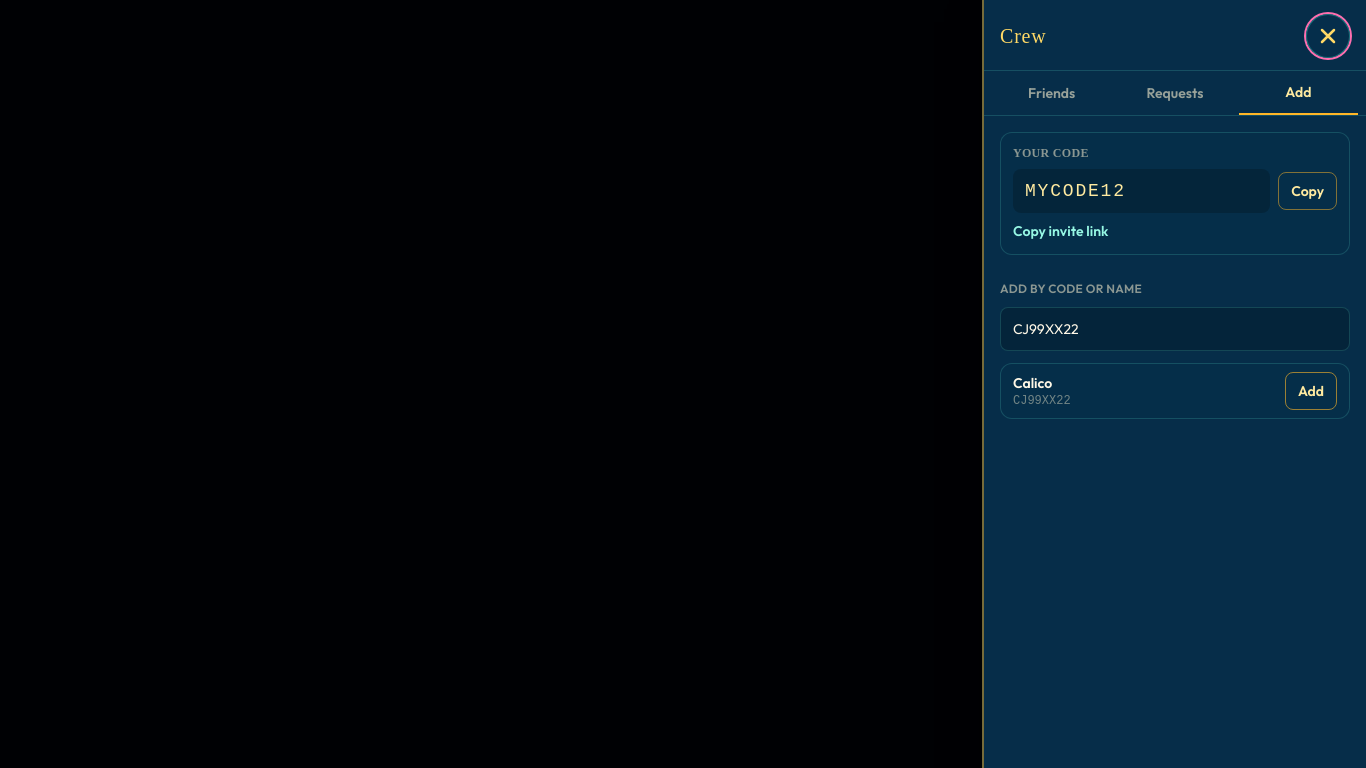
Test: FriendsDrawer › shows your friend code and searches + adds on the Add tab
The image size is (1366, 768).
Check: the text "MYCODE12" is shown, box x1=1013 y1=169 x2=1270 y2=213
# Deep-link query auto-searches and yields a result with an Add action.
Click the button "Add" at (1311, 391), box x1=1285 y1=372 x2=1337 y2=410
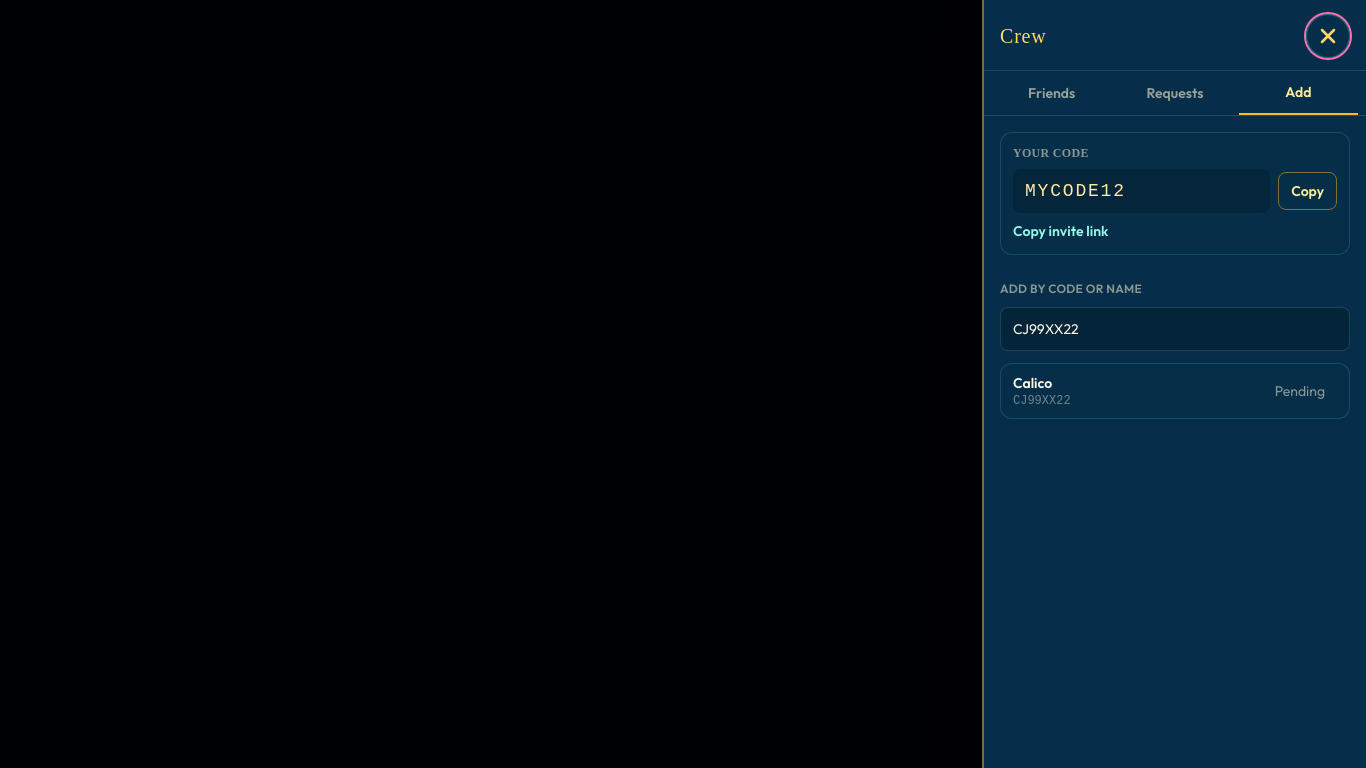
Check: the text "Pending" is shown, box x1=1275 y1=382 x2=1325 y2=400
